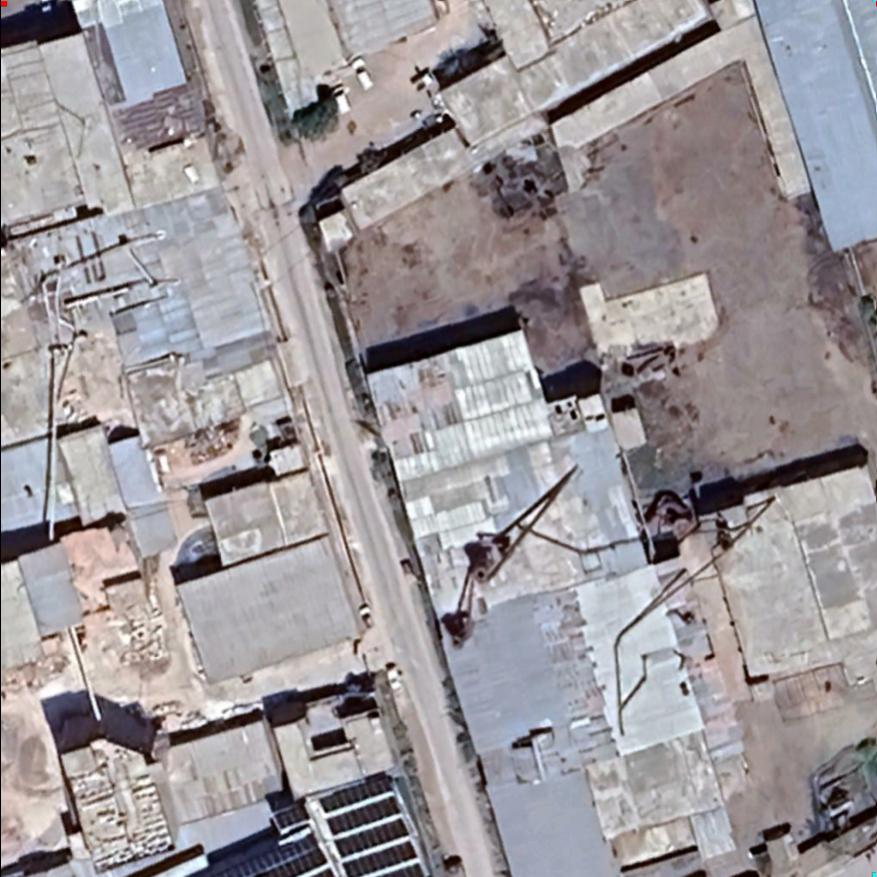Solarpanel: (310, 765, 434, 876), (167, 798, 338, 876)
